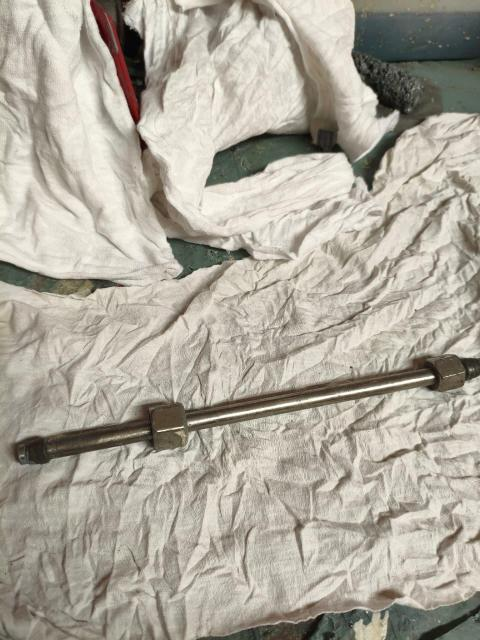Metal: (15, 353, 480, 467)
